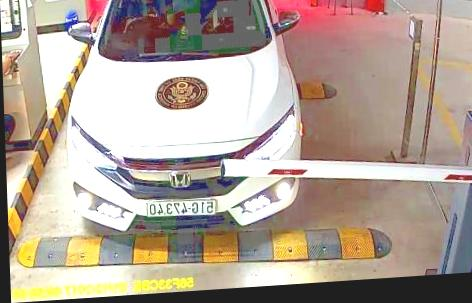License_Plate: (147, 196, 218, 222)
